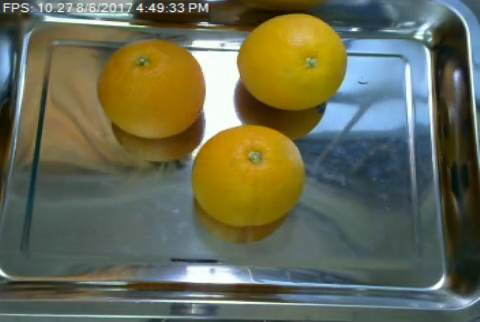Orange: (190, 124, 304, 226), (96, 38, 207, 140), (237, 13, 349, 111)
